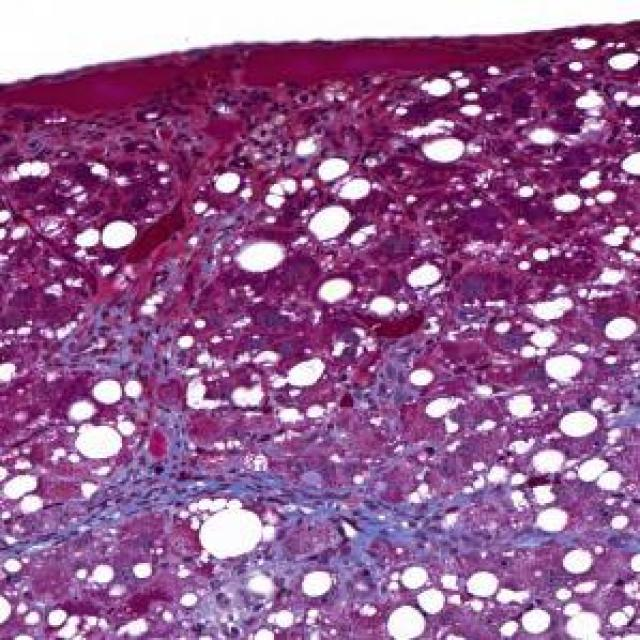fibrosis: (323, 477, 520, 576), (150, 407, 314, 524)
